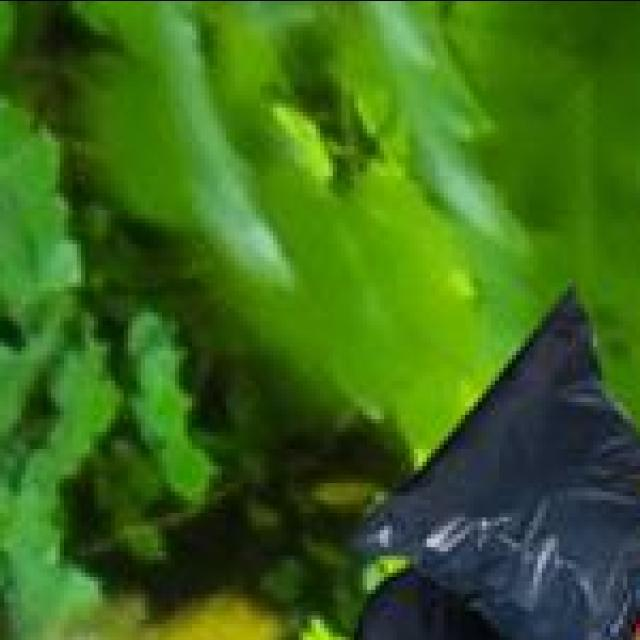Trashbag: (378, 345, 640, 633)
